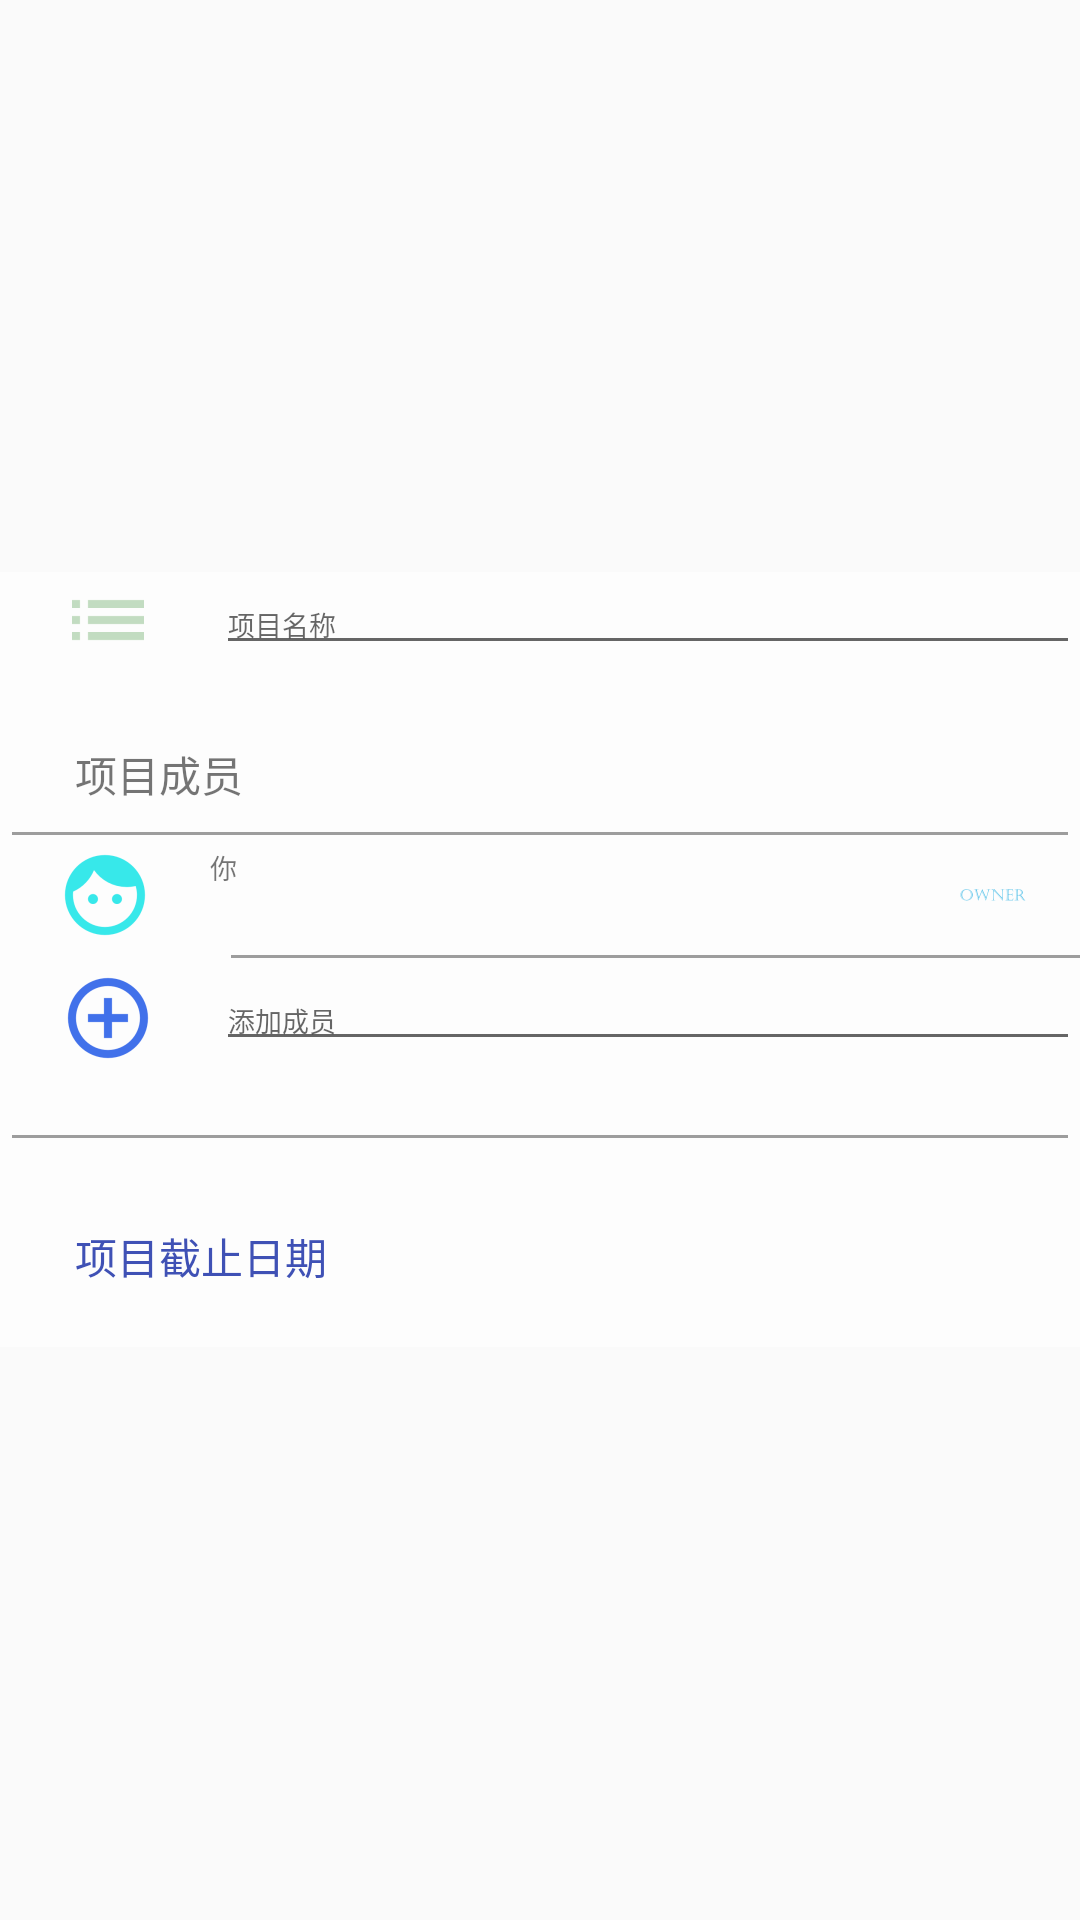

Icon click points for this 1080w x 1920h phone screenshot, format (x=x, y=y):
addmember: (x=108, y=1018)
own: (x=105, y=895)
